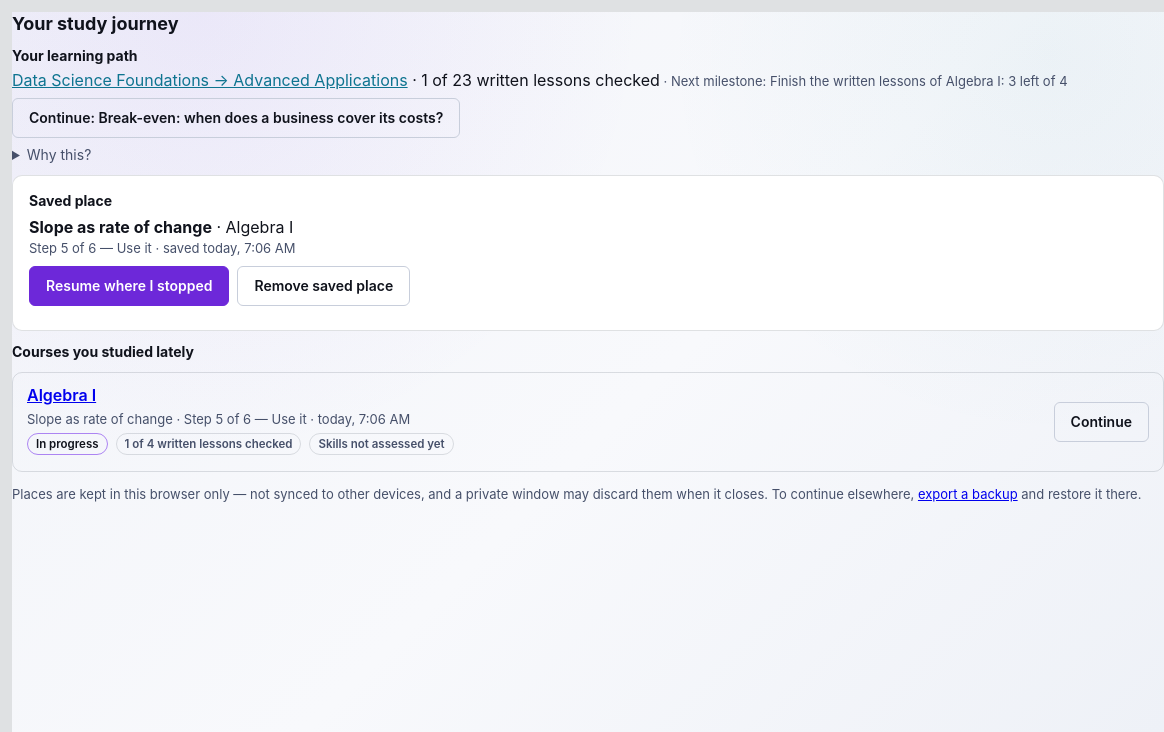
Test: My Progress and the session summary › shows the saved place; removing it removes only the bookmark
Expected: the text "Step 5 of 6 — Use it · saved today, 7:06 AM" is shown 2 times, top-left (29, 240), bottom-right (296, 256); top-left (27, 409), bottom-right (454, 429)
Expected: the text "1 of 4 written lessons checked" is shown, top-left (116, 433), bottom-right (302, 455)
What coordinates should you click on to do the following:
click the button "Remove saved place"
I would click on:
 (324, 286)
Its box is top-left (238, 266), bottom-right (410, 306).
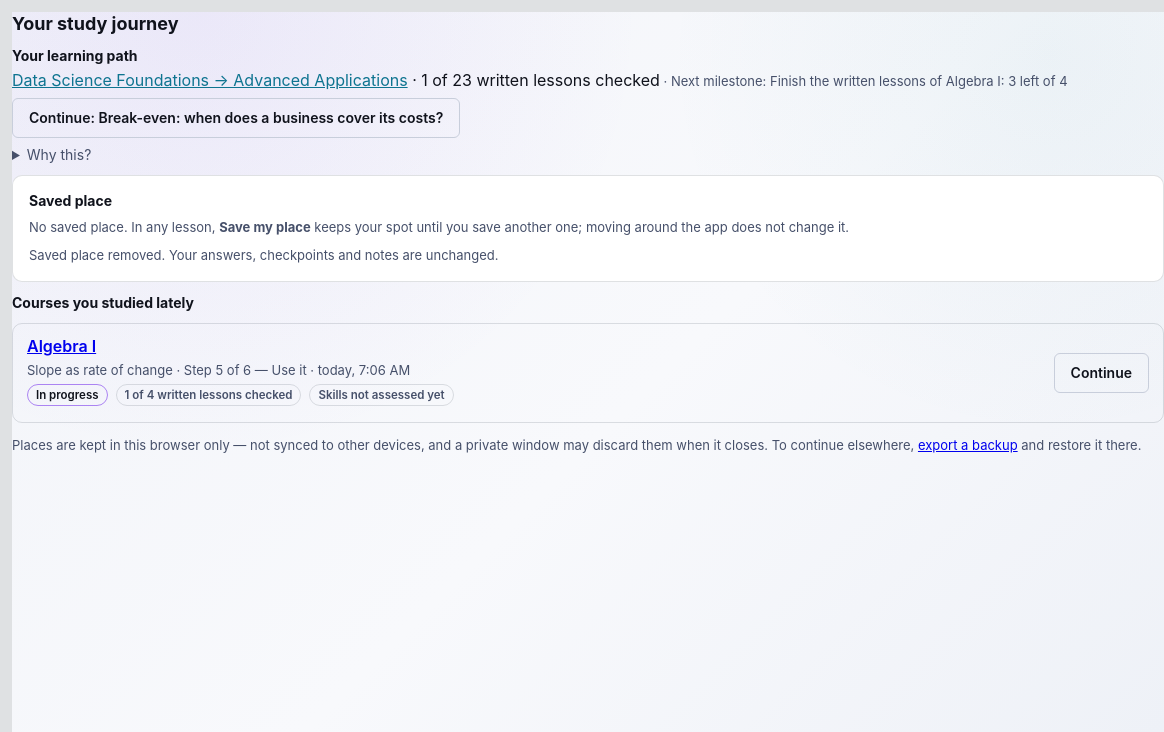
Expected: the text "Saved place removed. Your answers, checkpoints and notes are unchanged." is shown, top-left (29, 247), bottom-right (498, 263)
